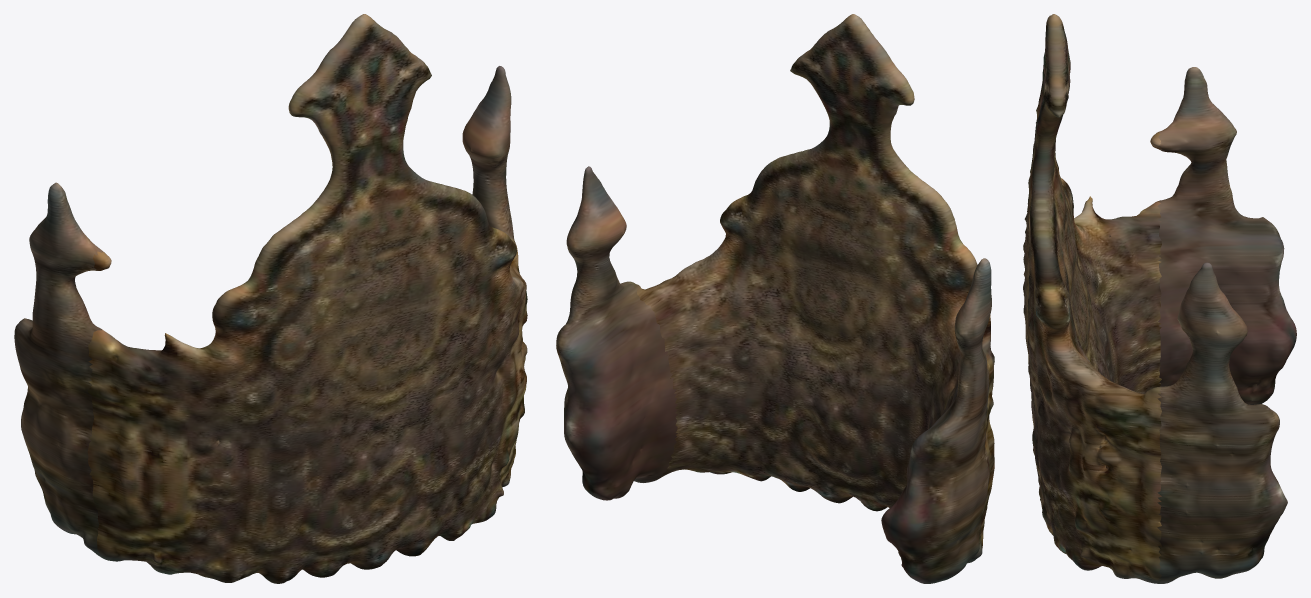
File: kfl-2234.glb
3 views of the same model, side by side, from view 1: azimuth 30°, elevation 25°; view 2: azimuth 150°, elevation 25°; view 3: azimuth 270°, elevation 25° (orthographic). The views are drawn at different scales.
Parts seen in each view (by area): view 1: geometry_0; view 2: geometry_0; view 3: geometry_0.
Boxes of the visible parts, x1=… form: geometry_0: x1=14, y1=14, x2=527, y2=583; geometry_0: x1=556, y1=14, x2=994, y2=583; geometry_0: x1=1023, y1=14, x2=1296, y2=583.
Bounding box in the file's own units: 0.8773 × 0.9931 × 0.4897.
Materials: 1 (1 with a texture image).
